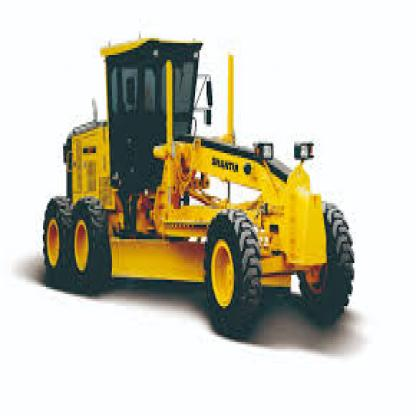bull_dozer/loader/grader: (30, 26, 356, 356)
